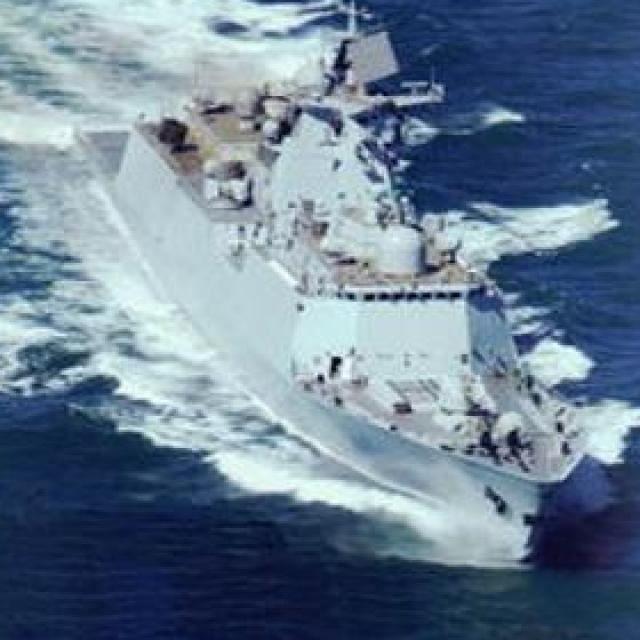navalvessels: (60, 22, 620, 551)
